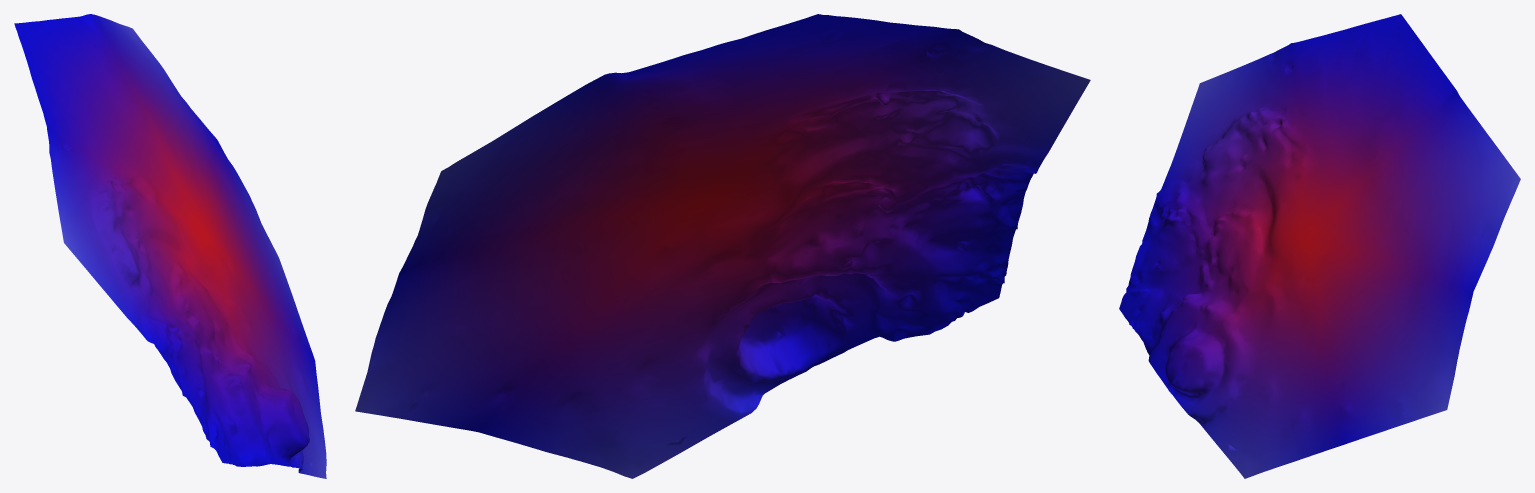
Rendered from Hex_03.fbx.
3 renders of one model, left to right at view 1: azimuth 30°, elevation 25°; view 2: azimuth 150°, elevation 25°; view 3: azimuth 270°, elevation 25°, orthographic. The views are drawn at different scales.
Visible parts, largest first — view 1: Hex_03; view 2: Hex_03; view 3: Hex_03.
Part boxes in pixels (x1,y1,x2,y2): Hex_03: (14,14,326,478); Hex_03: (355,14,1090,478); Hex_03: (1119,14,1520,478).
Size of the model in its own units: 378 by 442 by 430.
